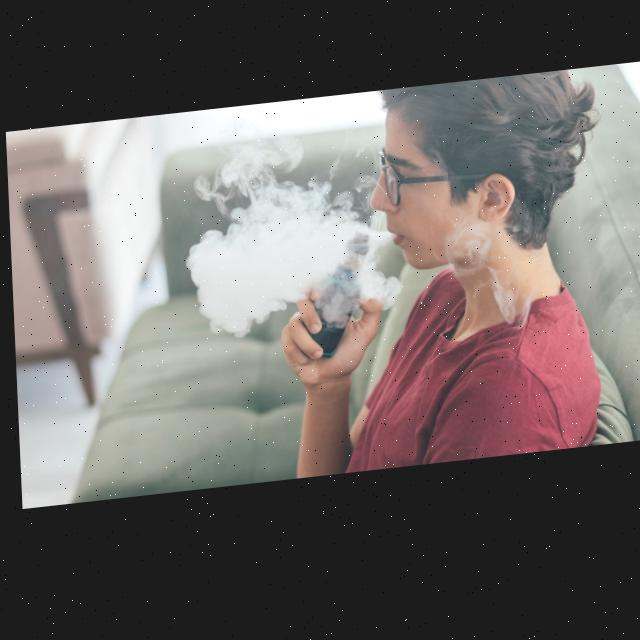vape: (305, 237, 372, 366)
